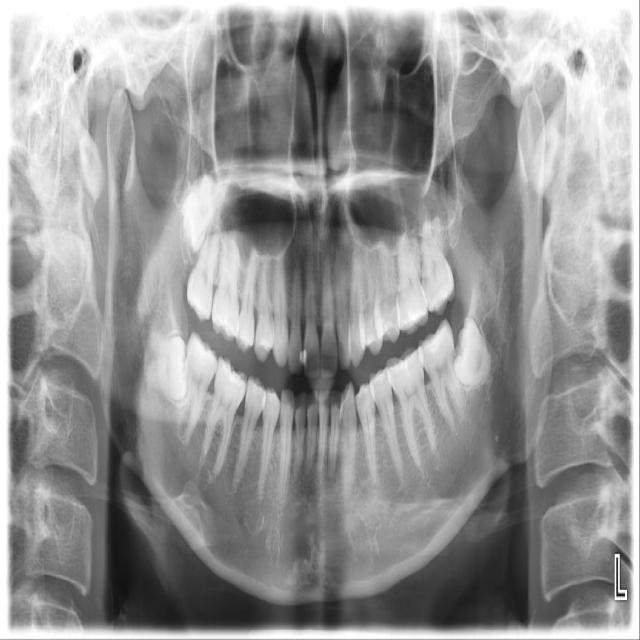impacted tooth: (178, 164, 227, 252), (136, 321, 187, 399), (456, 316, 503, 386)
